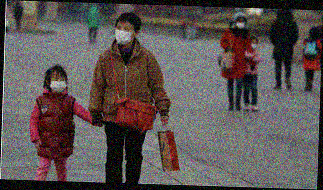with_mask: (115, 23, 135, 44), (49, 76, 69, 93), (235, 18, 247, 30), (250, 39, 259, 48)
